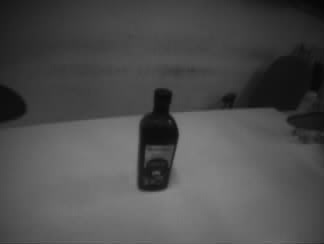Bottle: (137, 86, 179, 191)
